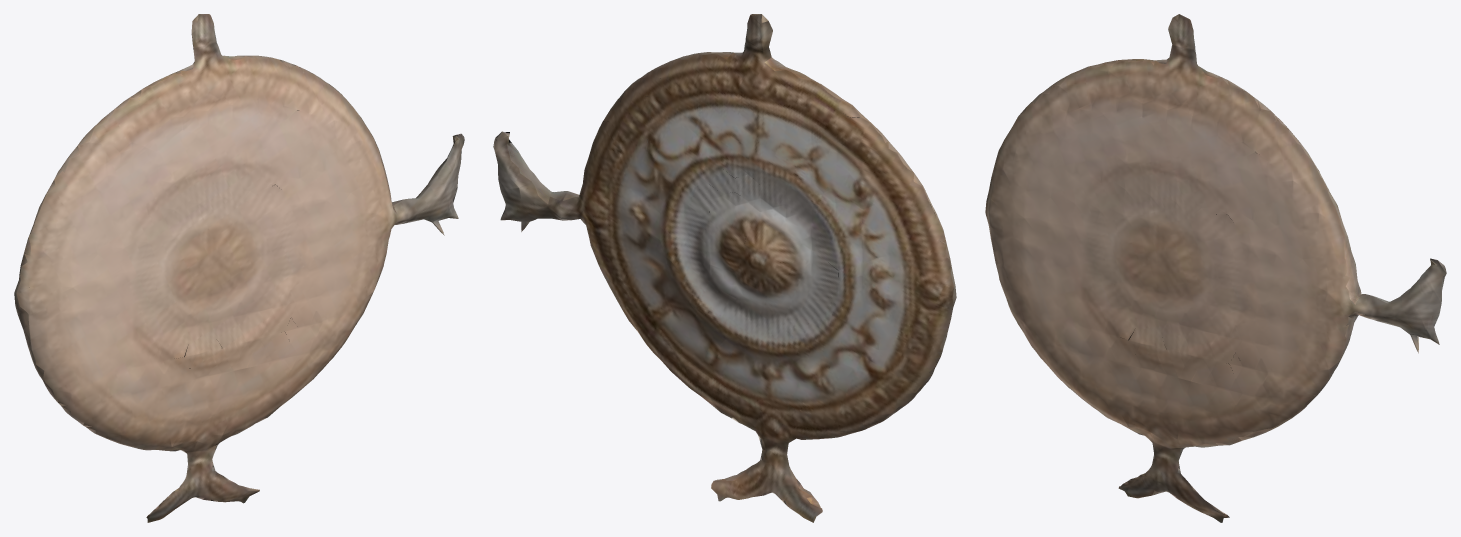
File: 15_21_22_21_miniature-model-of-ceiling-medallion-with-ascending-angels.glb
The picture shows the model from 3 angles, left to right: view 1: azimuth 30°, elevation 25°; view 2: azimuth 150°, elevation 25°; view 3: azimuth 330°, elevation 25°; orthographic projection.
Parts seen in each view (by area): view 1: world; view 2: world; view 3: world.
Part boxes in pixels (bbox=[...]): world: bbox=[14, 14, 464, 522]; world: bbox=[493, 14, 956, 522]; world: bbox=[985, 14, 1446, 522].
Size of the model in its own units: 0.7824 by 0.8182 by 0.0776.
1 material, 1 textured.
